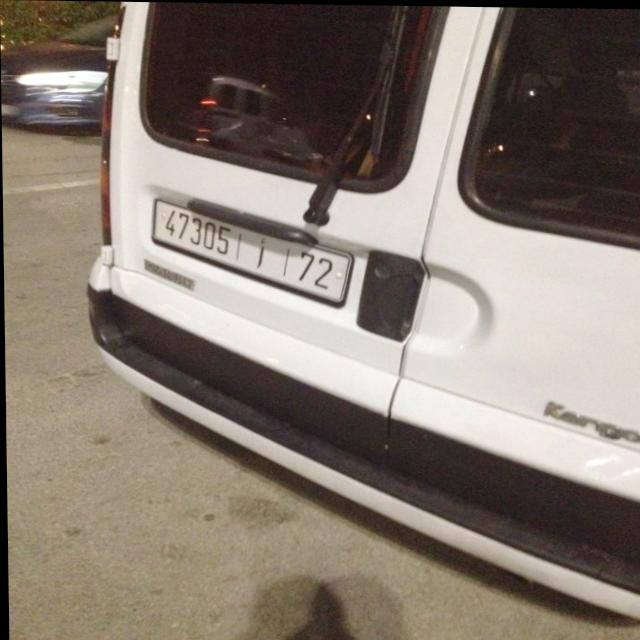License-Plate: (154, 199, 349, 302)
